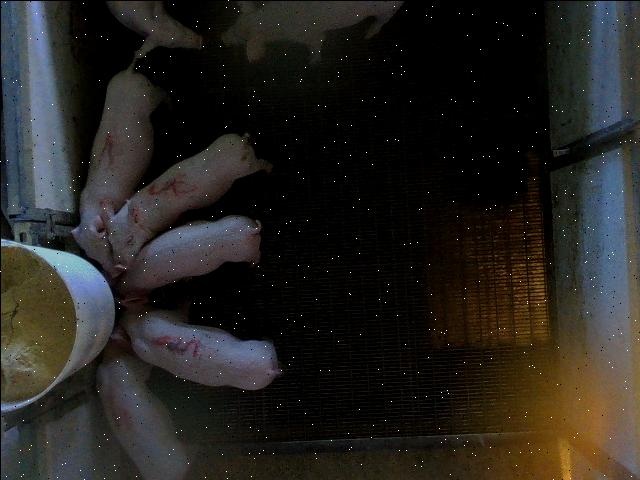pig-1: (71, 66, 171, 276)
pig-3: (110, 292, 281, 388)
pig-4: (95, 325, 189, 479)
pig-5: (106, 132, 271, 268)
